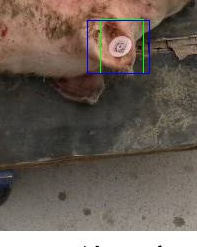text: (100, 19, 143, 73)
